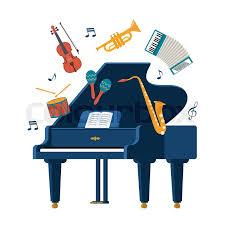Piano: (16, 58, 225, 223)
Saxophone: (81, 21, 151, 60)
Violin: (42, 18, 97, 80)
